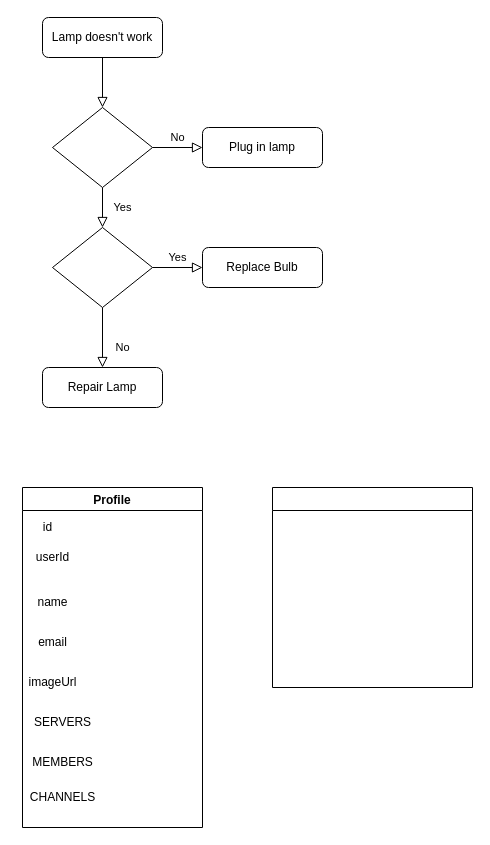
This 490x845 diagram has some shape labels left out. The shapes that lost their labels are listed below. From the top down, each one's centre as x and y in pixels, then its label:
pixel 102 147: Lamp plugged in?
pixel 102 267: Bulb burned out?
pixel 372 587: Server
